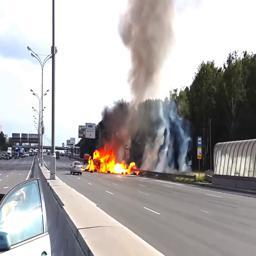fire: (85, 146, 139, 175)
